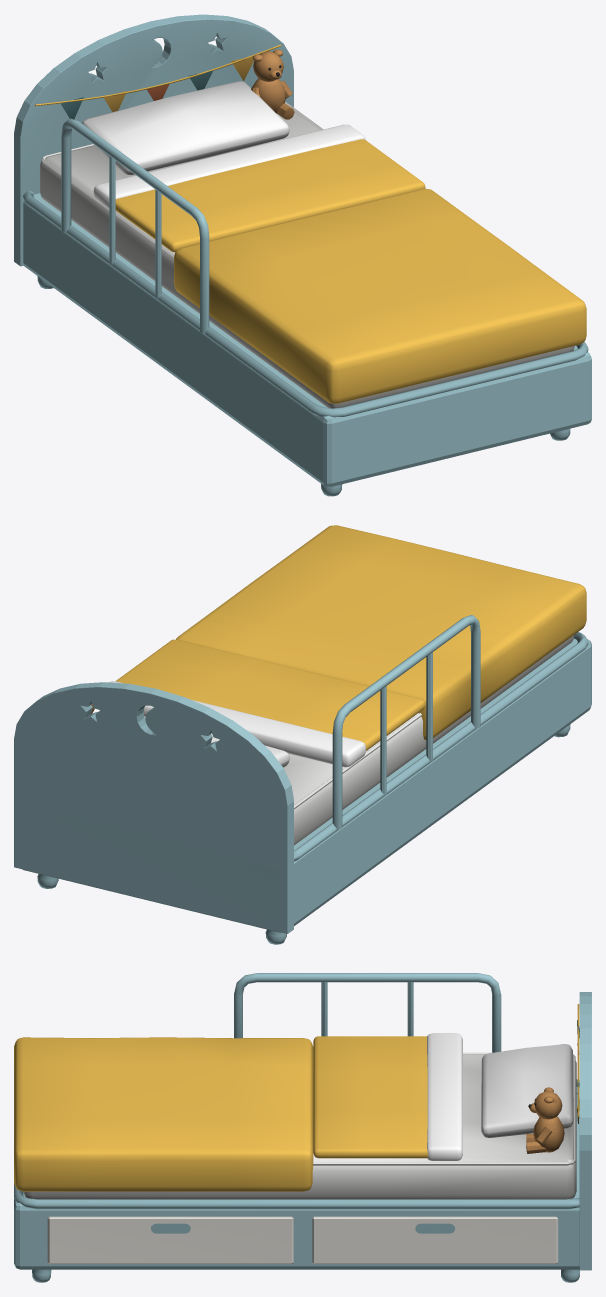
The model's file is kidsBed.glb.
The picture shows the model from 3 angles, top to bottom: view 1: azimuth 30°, elevation 25°; view 2: azimuth 150°, elevation 25°; view 3: azimuth 270°, elevation 25°; orthographic projection. The views are drawn at different scales.
Visible parts, largest first — view 1: bed, duvet_flap; view 2: bed, duvet_flap; view 3: bed, duvet_flap.
Part boxes in pixels (x1,y1,x2,y2): bed: (14, 14, 591, 496); duvet_flap: (93, 124, 425, 252); bed: (14, 525, 591, 944); duvet_flap: (109, 639, 425, 767); bed: (14, 973, 591, 1282); duvet_flap: (313, 1033, 462, 1160).
Size of the model in its own units: 0.9703 by 0.764 by 1.88.
